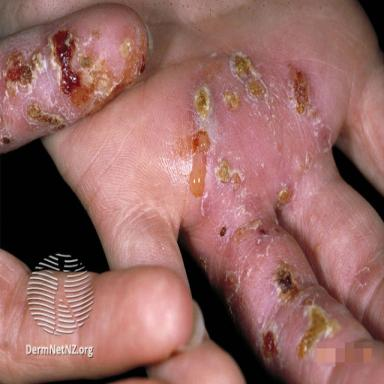Impetigo: (179, 41, 357, 378), (0, 19, 152, 155)
